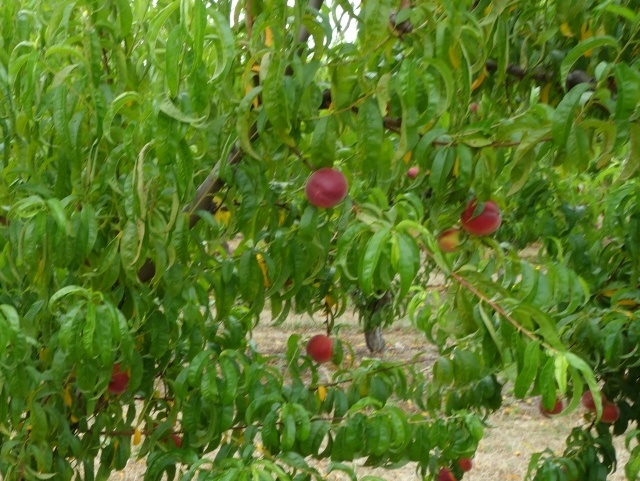peach: (301, 165, 354, 214), (460, 194, 505, 239), (105, 358, 134, 401), (303, 332, 337, 368), (434, 225, 469, 256), (580, 385, 609, 414), (534, 394, 565, 420), (595, 400, 623, 426), (455, 452, 478, 476), (433, 465, 458, 481)
